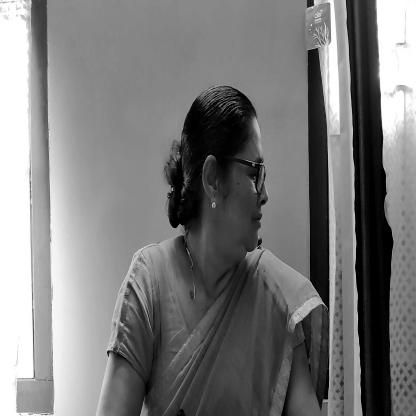Distracted: (175, 90, 274, 260)
